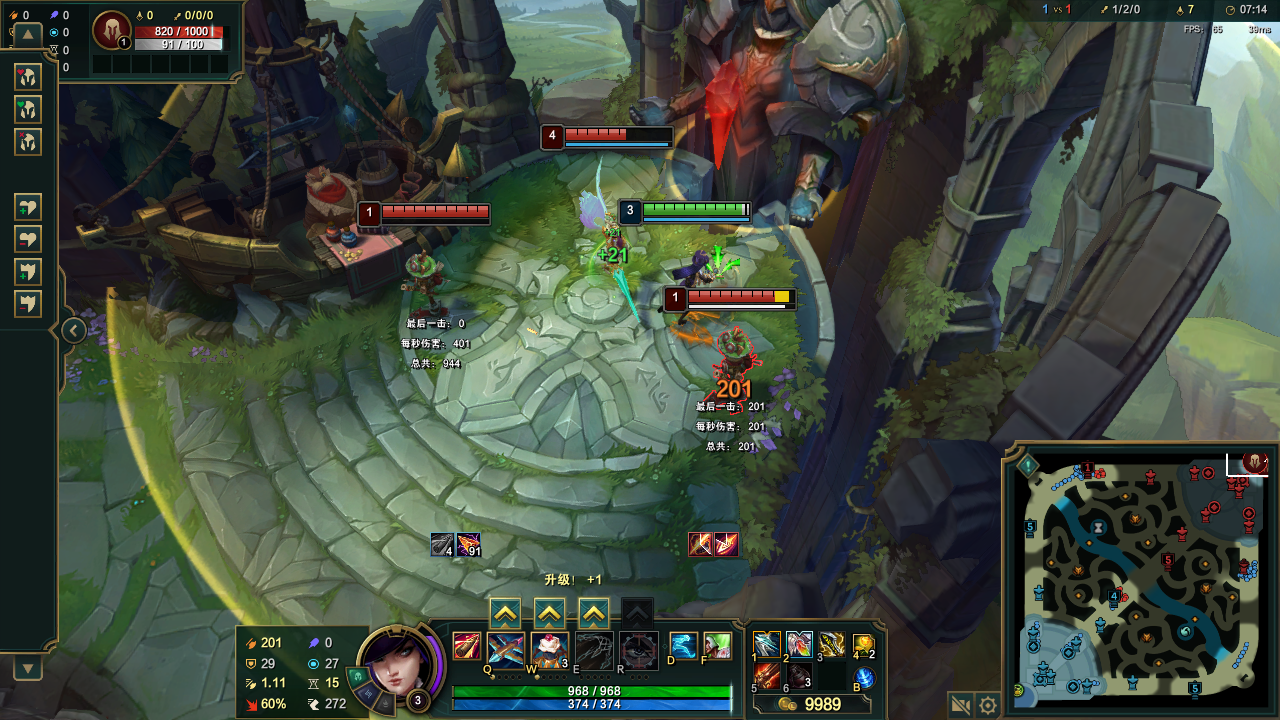DFYX: (690, 286, 794, 303), (563, 127, 670, 141), (383, 205, 489, 216)
